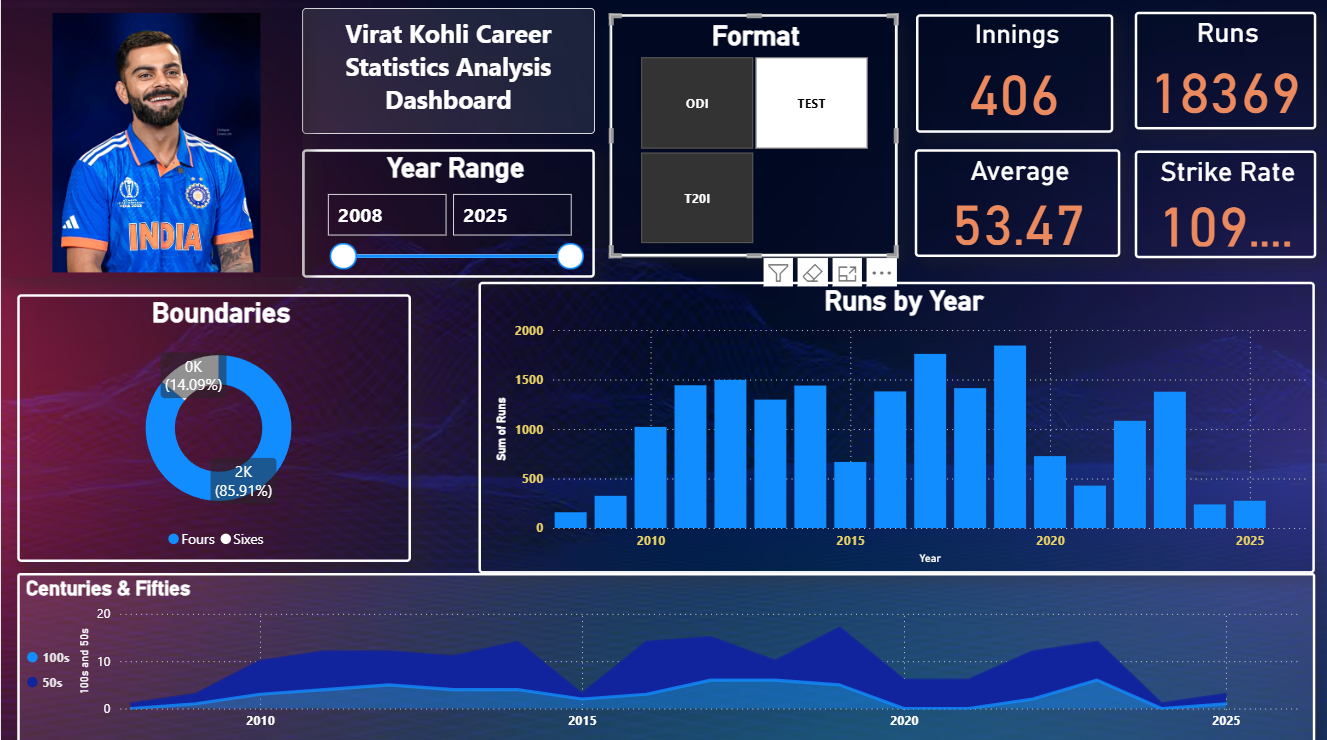

Layout of this report page (visuals, bound fields, positions):
{"tool":"powerbi","page":{"name":"Page 1","canvas":[1280,720],"ordinal":0},"visuals":[{"type":"textbox","box":[291.2,10,282.5,121.2],"z":0},{"type":"card","title":"Innings","fields":{"Values":["Sum(Sheet2.Innings)"]},"box":[883.1,15.7,190.6,114.6],"z":1000},{"type":"card","title":"Runs","fields":{"Values":["Sum(Sheet2.Runs)"]},"box":[1093.8,13.8,175,113.8],"z":2000},{"type":"card","title":"Average","fields":{"Values":["Avg(Sheet2.Avg)"]},"box":[882.5,146.2,198.8,103.8],"z":3000},{"type":"card","title":"Strike Rate","fields":{"Values":["Avg(Sheet2.SR)"]},"box":[1093.8,147.5,175,103.8],"z":4000},{"type":"slicer","title":"Format","fields":{"Values":["Sheet2.Format"]},"box":[587.5,16.2,277.5,233.8],"z":5000},{"type":"slicer","title":"Year Range","fields":{"Values":["Sheet2.Year "]},"box":[291.2,146.2,282.5,123.8],"z":6000},{"type":"clusteredColumnChart","title":"Runs by Year ","fields":{"Category":["Sheet2.Year "],"Y":["Sum(Sheet2.Runs)"]},"box":[461.2,273.8,807.5,281.2],"z":7000},{"type":"donutChart","title":"Boundaries","fields":{"Y":["Sum(Sheet2.4s)","Sum(Sheet2.6s)"]},"box":[16.2,286.2,380,258.8],"z":8000},{"type":"stackedAreaChart","title":"Centuries & Fifties","fields":{"Y":["Sum(Sheet2.100)","Sum(Sheet2.50)"],"Category":["Sheet2.Year "]},"box":[16.2,555,1252.5,165],"z":9000},{"type":"image","box":[0,10,291.2,260],"z":10000}]}

Visuals, with their boxes in screenshot pixels (x1, y1, x2, y2), scaled from the page's 1280x720 canvas onto the 1327x740 screenshot:
textbox: detection(302, 10, 595, 135)
"Innings" card: detection(916, 16, 1113, 134)
"Runs" card: detection(1134, 14, 1315, 131)
"Average" card: detection(915, 150, 1121, 257)
"Strike Rate" card: detection(1134, 152, 1315, 258)
"Format" slicer: detection(609, 17, 897, 257)
"Year Range" slicer: detection(302, 150, 595, 278)
"Runs by Year " clusteredColumnChart: detection(478, 281, 1315, 570)
"Boundaries" donutChart: detection(17, 294, 411, 560)
"Centuries & Fifties" stackedAreaChart: detection(17, 570, 1315, 739)
image: detection(0, 10, 302, 278)
